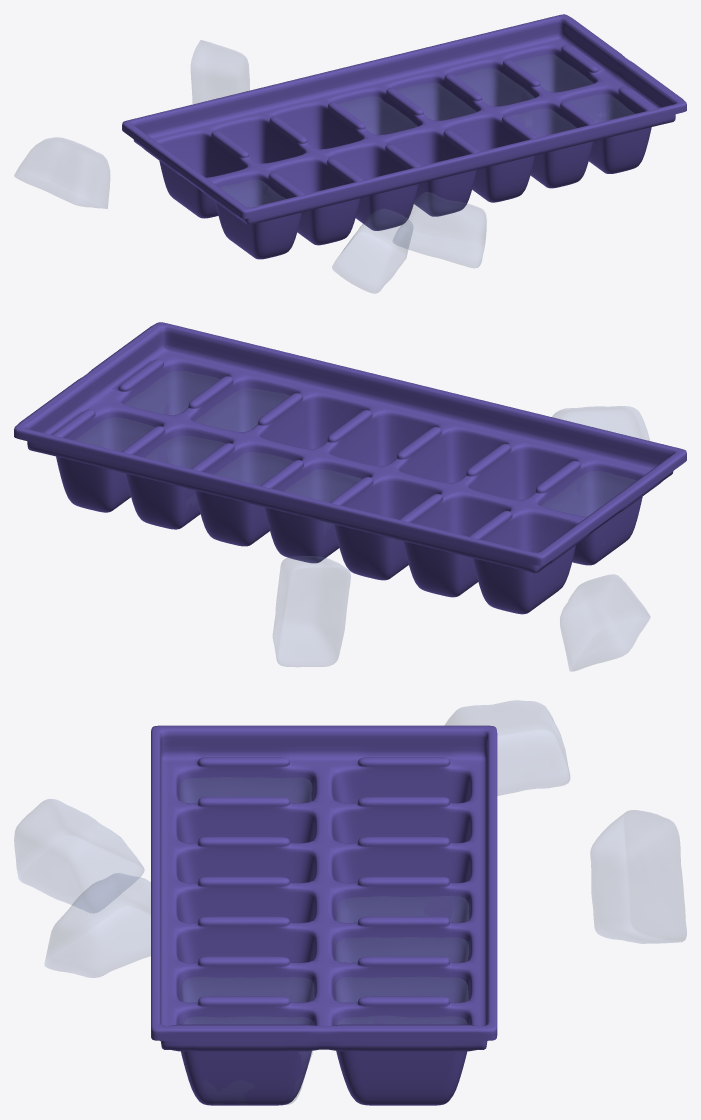
3 views of the same model, one above another, from view 1: azimuth 30°, elevation 25°; view 2: azimuth 150°, elevation 25°; view 3: azimuth 270°, elevation 25° (orthographic). The views are drawn at different scales.
Parts seen in each view (by area): view 1: Ice Cube Tray, Ice Cube Tray.001; view 2: Ice Cube Tray, Ice Cube Tray.001; view 3: Ice Cube Tray, Ice Cube Tray.001.
Boxes of the visible parts, x1,y1,x2,y2 form: Ice Cube Tray: (122, 14, 686, 259); Ice Cube Tray.001: (14, 40, 634, 293); Ice Cube Tray: (14, 322, 686, 614); Ice Cube Tray.001: (75, 371, 650, 671); Ice Cube Tray: (151, 725, 497, 1105); Ice Cube Tray.001: (14, 700, 686, 1104).
Size of the model in its own units: 9 by 1.41 by 7.01.
